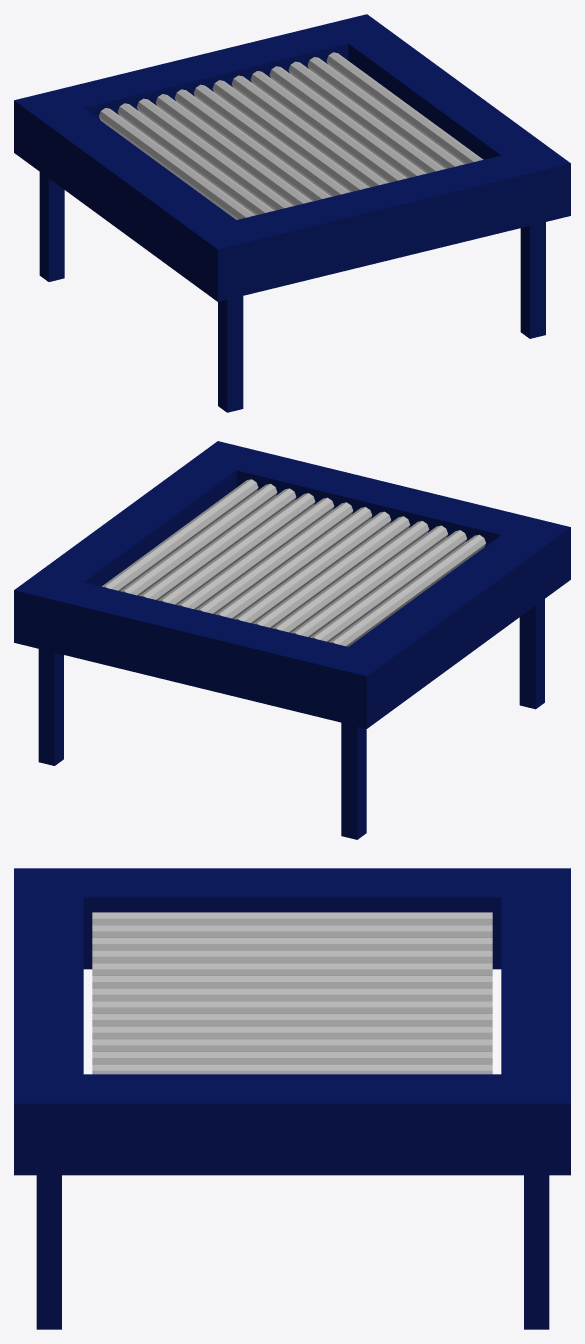
The model's file is conveyor_roller.glb.
3 renders of one model, top to bottom at view 1: azimuth 30°, elevation 25°; view 2: azimuth 150°, elevation 25°; view 3: azimuth 270°, elevation 25°, orthographic. The views are drawn at different scales.
Visible parts, largest first — view 1: cube, cyclinder; view 2: cube, cyclinder; view 3: cube, cyclinder.
Part boxes in pixels (x1,y1,x2,y2): cube: (14, 14, 570, 412); cyclinder: (99, 52, 483, 219); cube: (14, 441, 570, 839); cyclinder: (102, 479, 485, 646); cube: (14, 868, 570, 1329); cyclinder: (92, 912, 492, 1074).
Size of the model in its own units: 2 by 0.94 by 2.
Materials: 2 (2 with a texture image).
